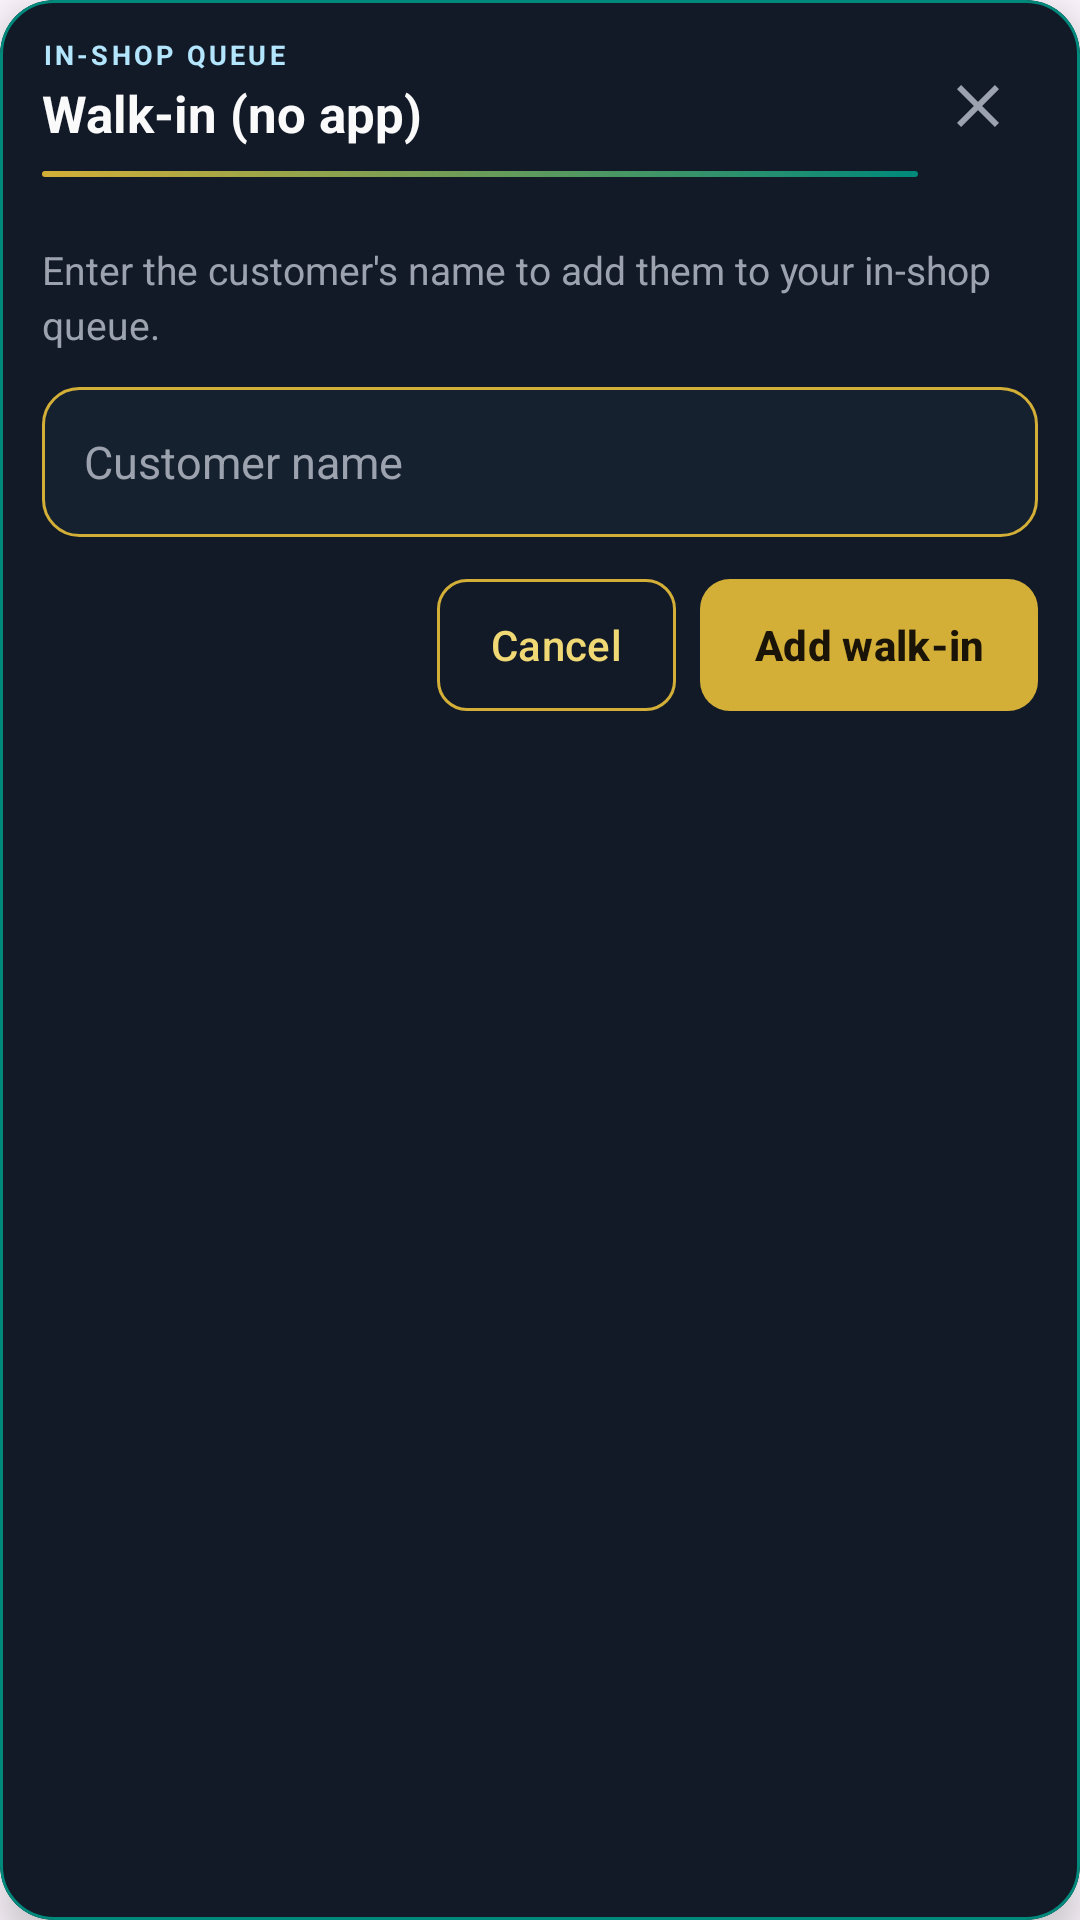

Icons on this 1080 × 1920 Android screen, each with the point to tap as (x,y):
Close: (978,106)
